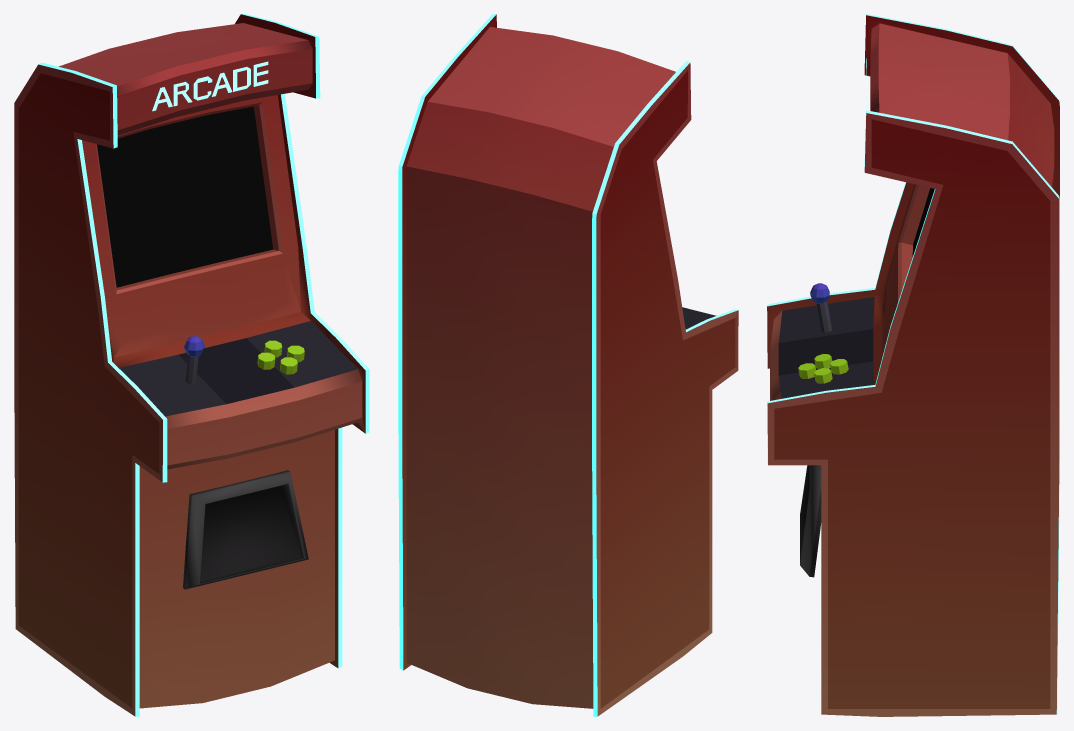
The model's file is arcade orange.fbx.
3 renders of one model, left to right at view 1: azimuth 30°, elevation 25°; view 2: azimuth 150°, elevation 25°; view 3: azimuth 270°, elevation 25°, orthographic. The views are drawn at different scales.
Visible parts, largest first — view 1: Plane.010; view 2: Plane.010; view 3: Plane.010.
Part boxes in pixels (x1=…): Plane.010: x1=14, y1=14, x2=369, y2=716; Plane.010: x1=398, y1=14, x2=738, y2=716; Plane.010: x1=767, y1=14, x2=1059, y2=716.
Size of the model in its own units: 114 by 326 by 142.
